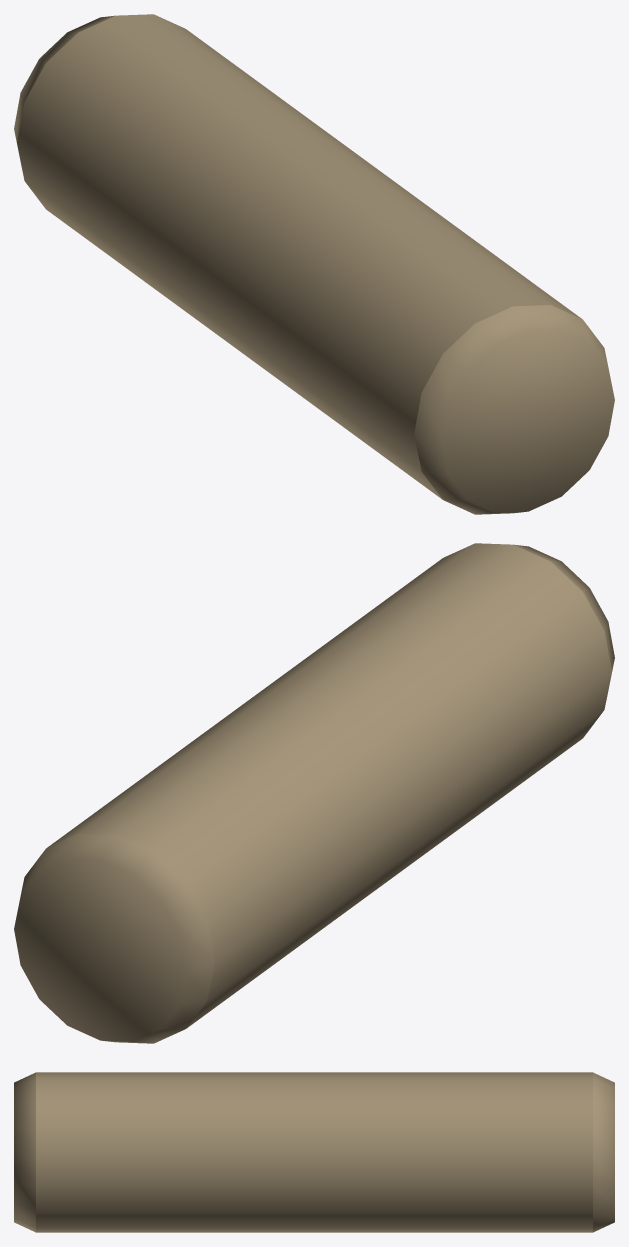
The model's file is Wall_Detail_04.fbx.
3 views of the same model, one above another, from view 1: azimuth 30°, elevation 25°; view 2: azimuth 150°, elevation 25°; view 3: azimuth 270°, elevation 25° (orthographic). The views are drawn at different scales.
Parts seen in each view (by area): view 1: Wall_Detail_04; view 2: Wall_Detail_04; view 3: Wall_Detail_04.
Boxes of the visible parts, box(x1,y1,x2,y2) form: Wall_Detail_04: box(14, 14, 614, 514); Wall_Detail_04: box(14, 543, 614, 1043); Wall_Detail_04: box(14, 1072, 614, 1232).
Bounding box in the file's own units: 0.8 × 0.8 × 3.
